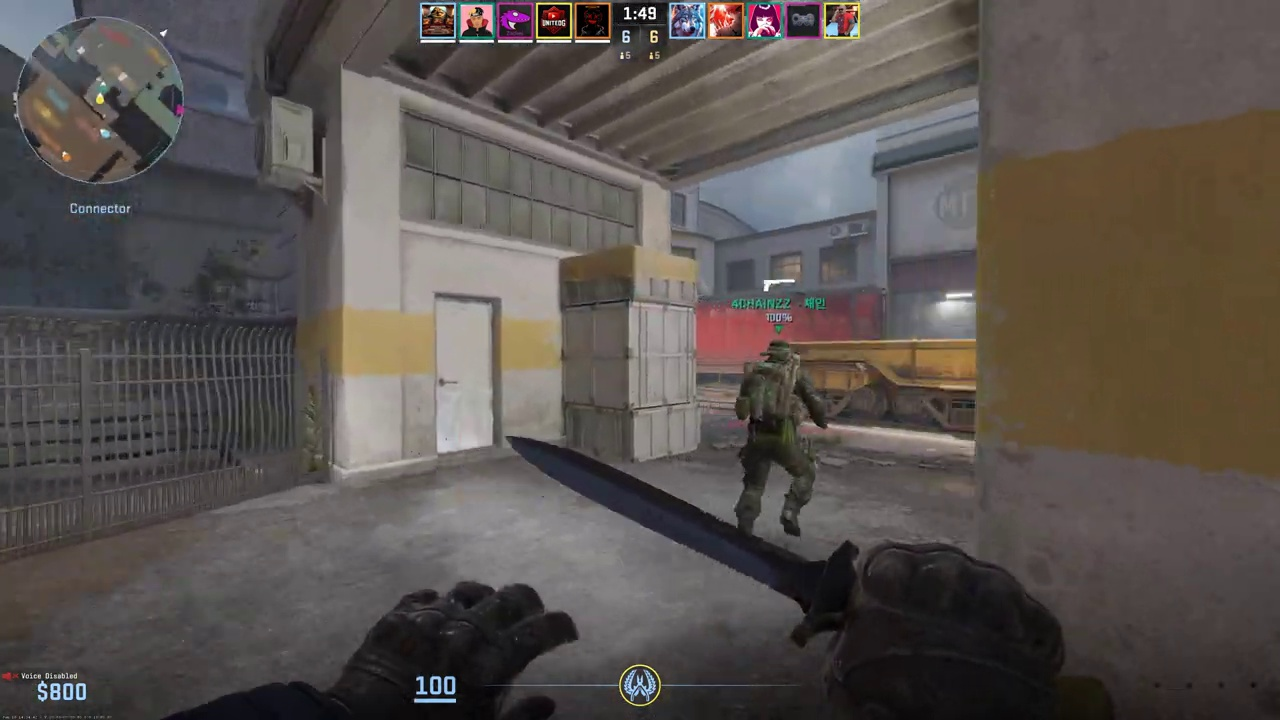CT: (739, 340, 814, 537)
